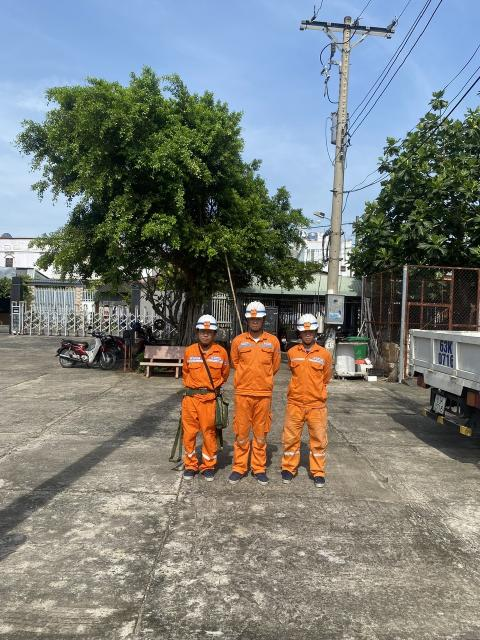harness: (181, 384, 224, 402)
helmet: (193, 311, 218, 334), (243, 301, 267, 318), (297, 316, 321, 332)
shoes: (248, 471, 273, 487), (311, 471, 330, 489), (179, 464, 196, 484), (226, 468, 246, 485), (274, 469, 294, 484), (200, 468, 218, 482)
